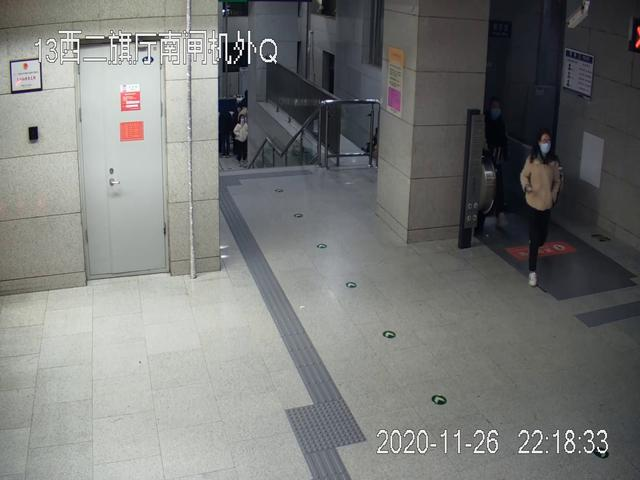person: (518, 131, 562, 287)
